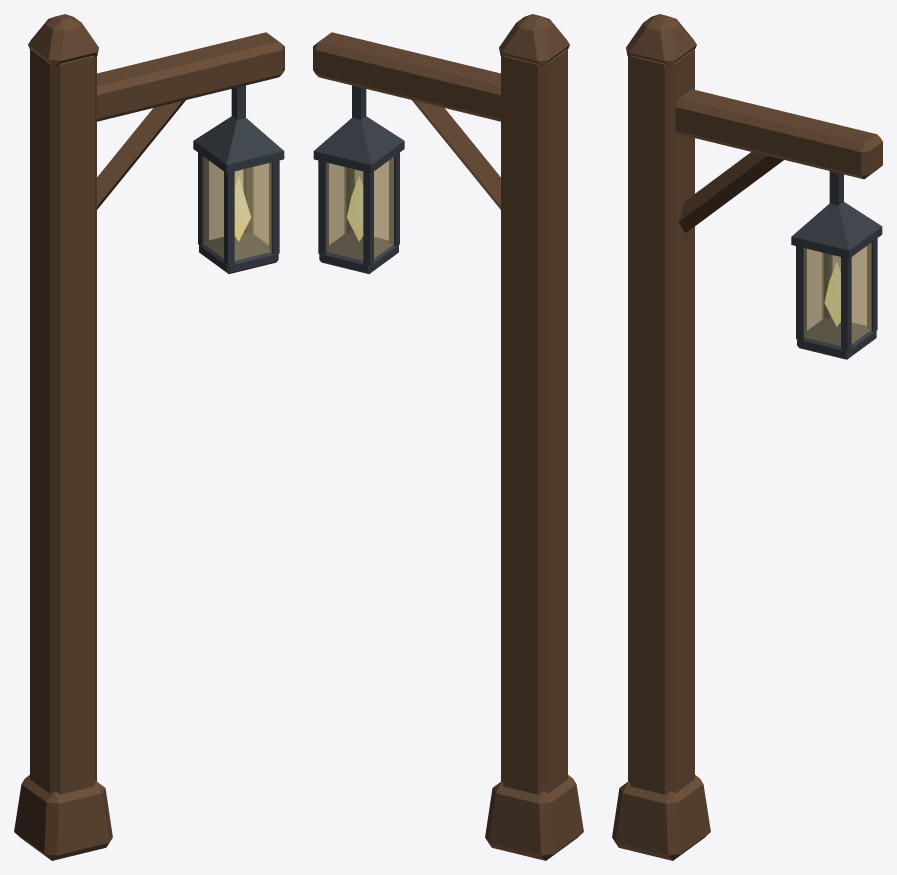
The model's file is Lantern_Post.fbx.
The picture shows the model from 3 angles, left to right: view 1: azimuth 30°, elevation 25°; view 2: azimuth 150°, elevation 25°; view 3: azimuth 330°, elevation 25°; orthographic projection.
Visible parts, largest first — view 1: Post, Iron, Glass, Core; view 2: Post, Iron, Glass, Core; view 3: Post, Iron, Glass, Core.
Boxes of the visible parts, x1=… form: Post: x1=14, y1=14, x2=284, y2=860; Iron: x1=193, y1=85, x2=284, y2=273; Glass: x1=204, y1=157, x2=271, y2=260; Core: x1=234, y1=176, x2=250, y2=241; Post: x1=313, y1=14, x2=583, y2=860; Iron: x1=313, y1=85, x2=404, y2=273; Glass: x1=326, y1=157, x2=393, y2=260; Core: x1=347, y1=176, x2=363, y2=241; Post: x1=612, y1=14, x2=882, y2=860; Iron: x1=791, y1=171, x2=882, y2=359; Glass: x1=804, y1=243, x2=871, y2=346; Core: x1=824, y1=261, x2=840, y2=326.
Size of the model in its own units: 2.2 by 6.98 by 0.6059.
